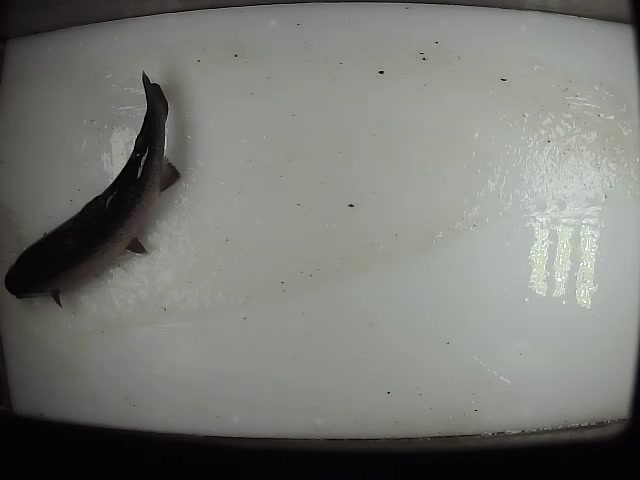fish: (1, 66, 182, 311)
